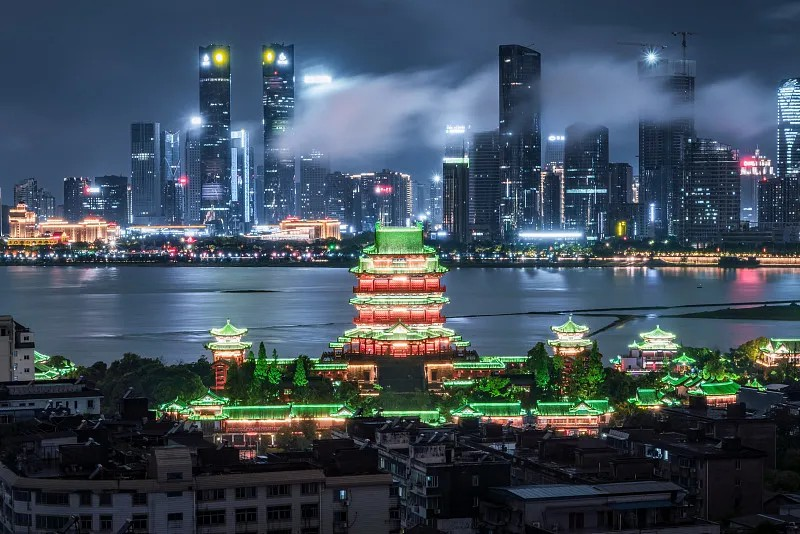Teng: (329, 220, 470, 358)
